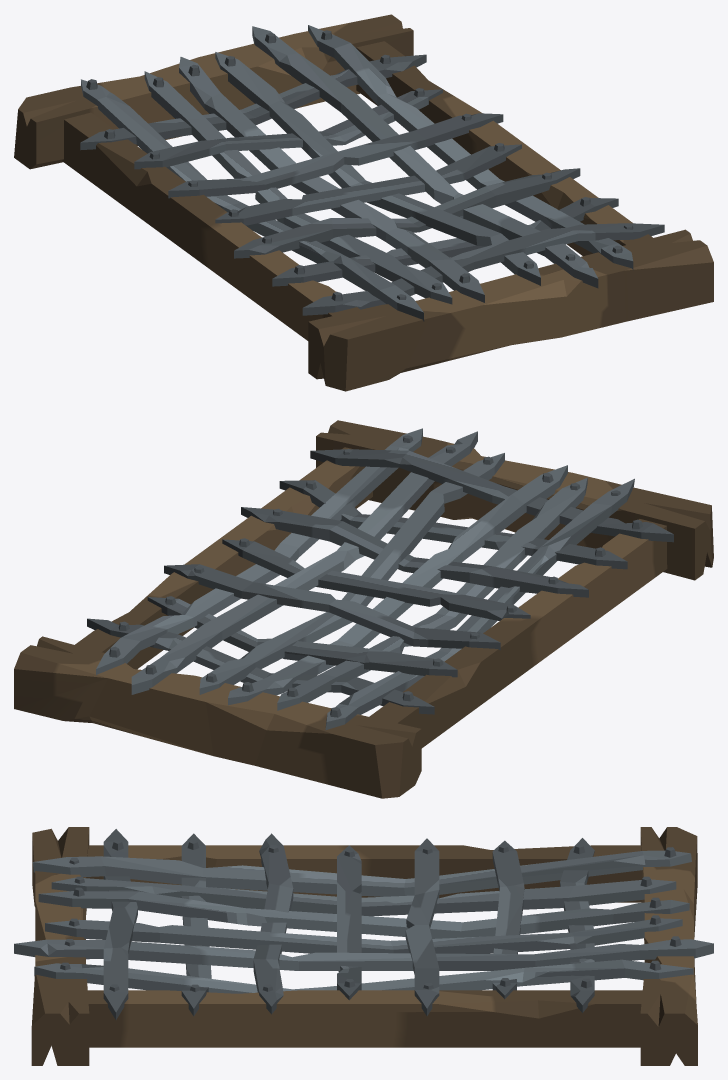
Rendered from SM_Veh_Ship_Grate_06.fbx.
3 renders of one model, top to bottom at view 1: azimuth 30°, elevation 25°; view 2: azimuth 150°, elevation 25°; view 3: azimuth 270°, elevation 25°, orthographic.
Parts seen in each view (by area): view 1: SM_Veh_Ship_Grate_06; view 2: SM_Veh_Ship_Grate_06; view 3: SM_Veh_Ship_Grate_06.
Boxes of the visible parts, bbox=[...] form: SM_Veh_Ship_Grate_06: bbox=[14, 14, 713, 391]; SM_Veh_Ship_Grate_06: bbox=[14, 420, 713, 798]; SM_Veh_Ship_Grate_06: bbox=[14, 827, 713, 1065].
Size of the model in its own units: 321 by 54.32 by 509.
